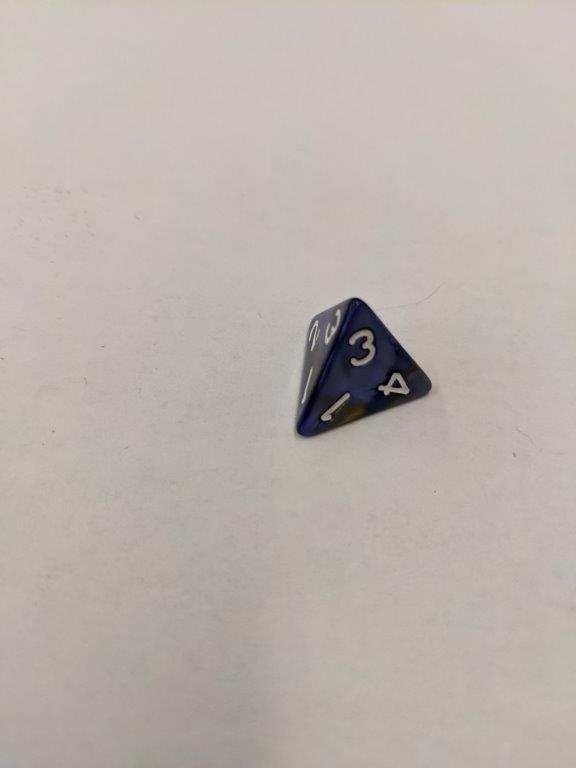d4-3: (293, 293, 435, 446)
